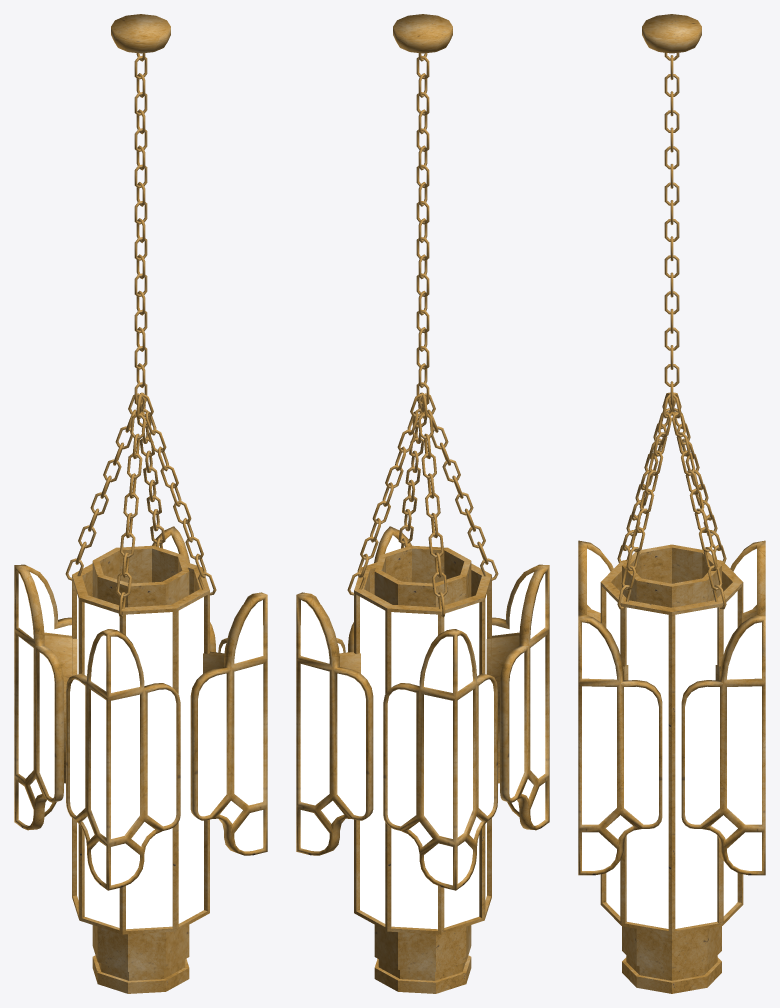
File: lamp_3.glb
The picture shows the model from 3 angles, left to right: view 1: azimuth 30°, elevation 25°; view 2: azimuth 150°, elevation 25°; view 3: azimuth 270°, elevation 25°; orthographic projection.
Parts seen in each view (by area): view 1: chandelier_0; view 2: chandelier_0; view 3: chandelier_0.
Part boxes in pixels (x1,y1,x2,y2): chandelier_0: [14, 14, 267, 993]; chandelier_0: [296, 14, 549, 993]; chandelier_0: [578, 14, 765, 993].
Bounding box in the file's own units: 2.58 × 14.66 × 2.63.
2 materials, 1 textured.
